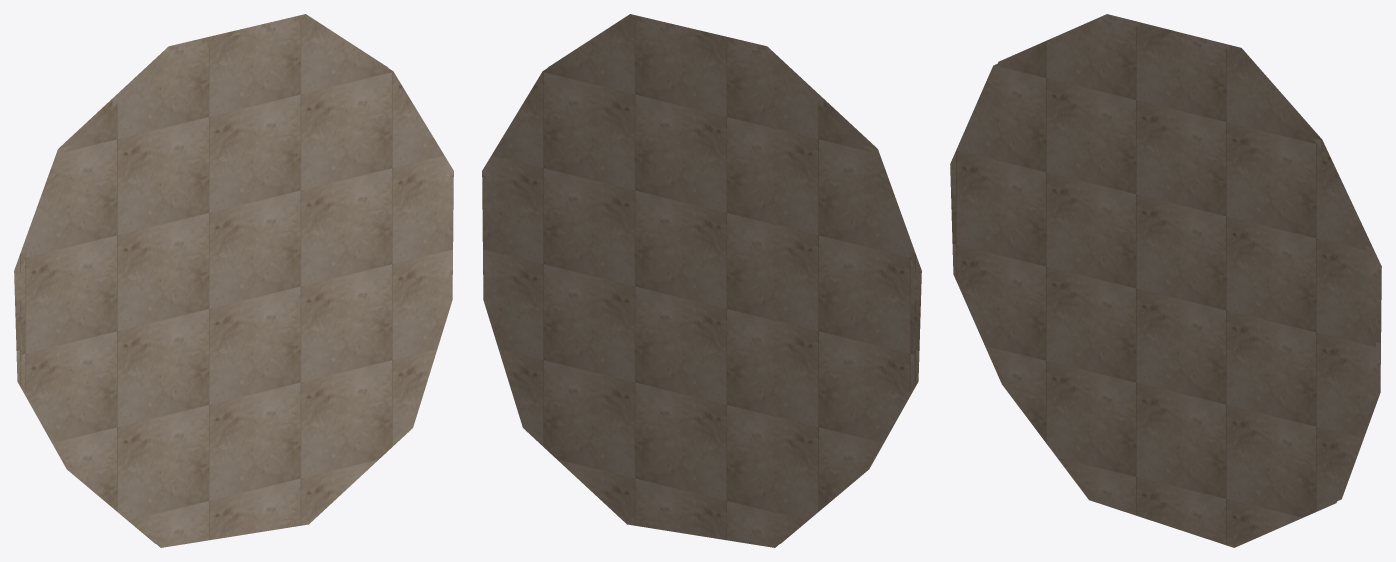
File: floor_10.obj
The picture shows the model from 3 angles, left to right: view 1: azimuth 30°, elevation 25°; view 2: azimuth 150°, elevation 25°; view 3: azimuth 330°, elevation 25°; orthographic projection.
Parts seen in each view (by area): view 1: floor_10; view 2: floor_10; view 3: floor_10.
Boxes of the visible parts, x1,y1,x2,y2 form: floor_10: (14, 14, 453, 547); floor_10: (482, 14, 921, 547); floor_10: (950, 14, 1381, 547).
Bounding box in the file's own units: 4.74 × 5.28 × 0.1.
1 material, 1 textured.
